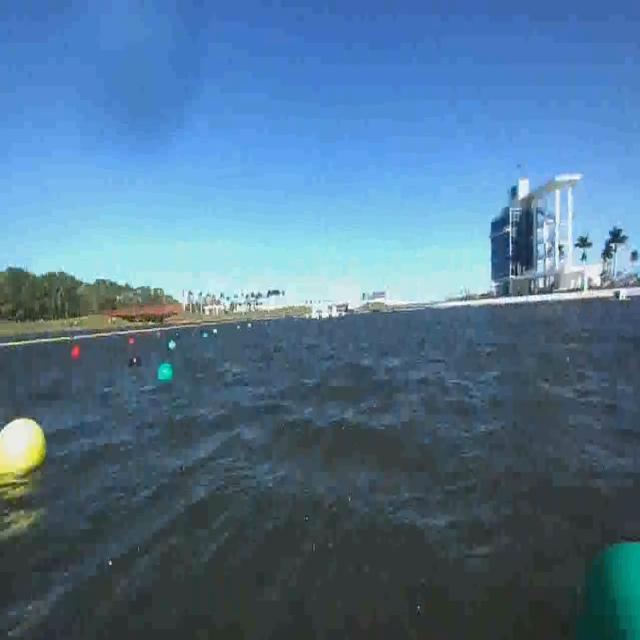black-buoy: (130, 357, 142, 368)
green-buoy: (567, 529, 640, 640), (157, 361, 172, 382)
red-buoy: (72, 346, 81, 360), (130, 339, 135, 346)
yellow-buoy: (0, 418, 48, 476)
